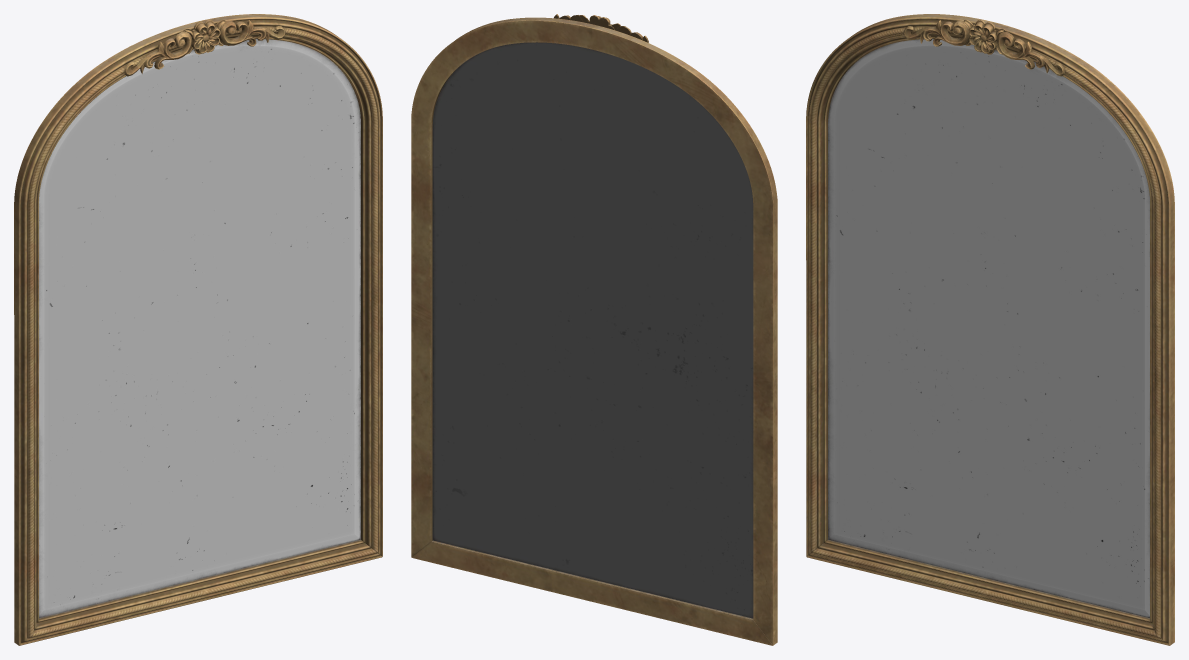
The model's file is ornate_mirror_01_2k.gltf.
The picture shows the model from 3 angles, left to right: view 1: azimuth 30°, elevation 25°; view 2: azimuth 150°, elevation 25°; view 3: azimuth 330°, elevation 25°; orthographic projection.
Visible parts, largest first — view 1: ornate_mirror_01; view 2: ornate_mirror_01; view 3: ornate_mirror_01.
Boxes of the visible parts, box(x1,y1,x2,y2) form: ornate_mirror_01: box(14, 14, 382, 645); ornate_mirror_01: box(411, 14, 777, 645); ornate_mirror_01: box(806, 14, 1174, 645).
Bounding box in the file's own units: 0.4865 × 0.7442 × 0.0259.
1 material, 1 textured.
